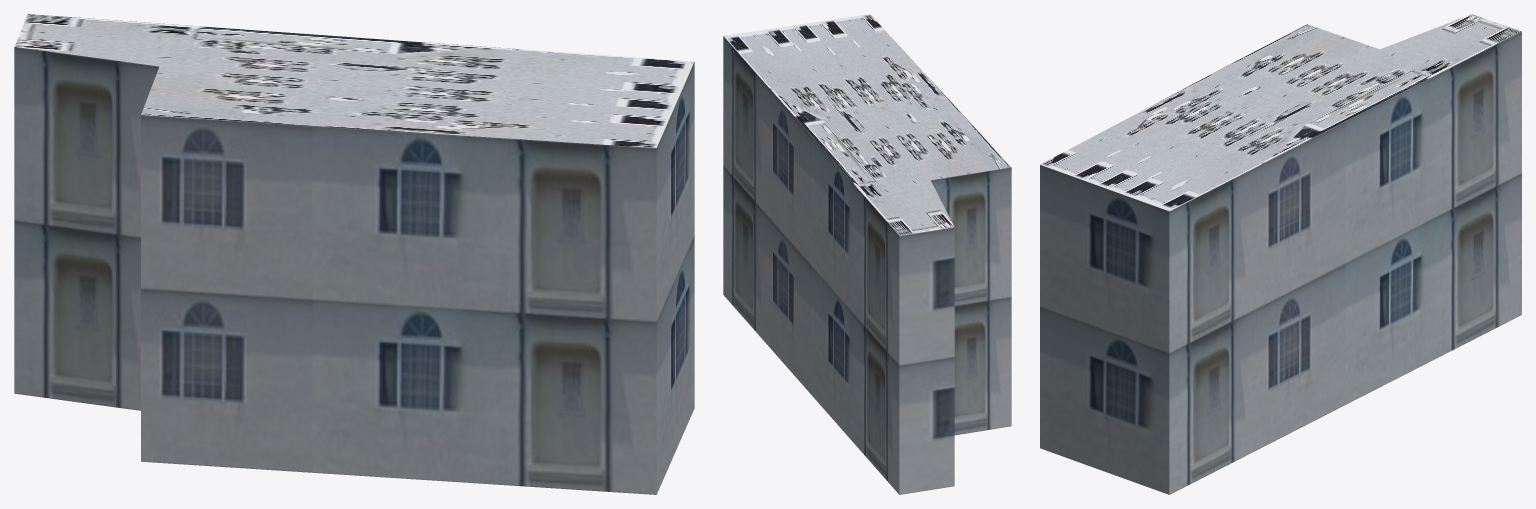
Rendered from ResTex__1165.fbx.
3 views of the same model, side by side, from view 1: azimuth 30°, elevation 25°; view 2: azimuth 150°, elevation 25°; view 3: azimuth 270°, elevation 25° (orthographic). The views are drawn at different scales.
Parts seen in each view (by area): view 1: CityEngineMaterial_17_m, CityEngineMaterial_4_m; view 2: CityEngineMaterial_17_m, CityEngineMaterial_4_m; view 3: CityEngineMaterial_17_m, CityEngineMaterial_4_m.
Boxes of the visible parts, <box> form: CityEngineMaterial_17_m: <box>14,47,694,494</box>; CityEngineMaterial_4_m: <box>14,14,693,147</box>; CityEngineMaterial_17_m: <box>723,36,1011,494</box>; CityEngineMaterial_4_m: <box>724,14,1010,235</box>; CityEngineMaterial_17_m: <box>1040,31,1521,494</box>; CityEngineMaterial_4_m: <box>1040,14,1521,211</box>.
Size of the model in its own units: 8.96 by 6 by 9.24.
Materials: 2 (2 with a texture image).
